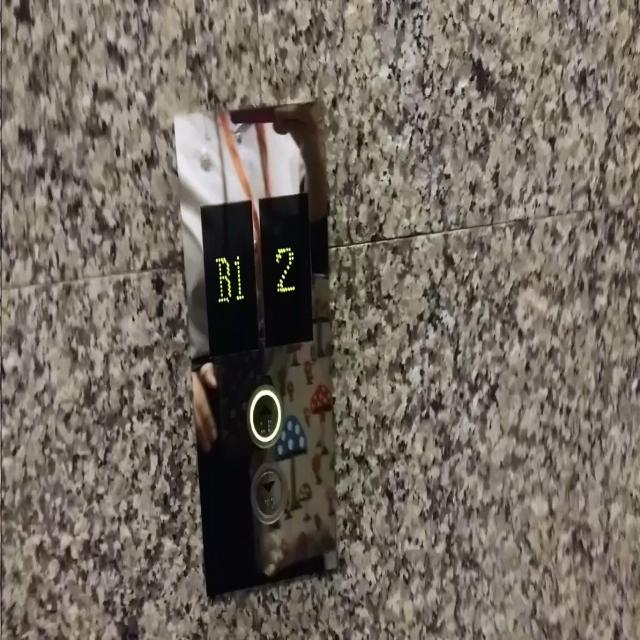2: (255, 189, 313, 351)
B1: (198, 194, 262, 358)
down: (247, 457, 288, 530)
up: (244, 377, 284, 451)
